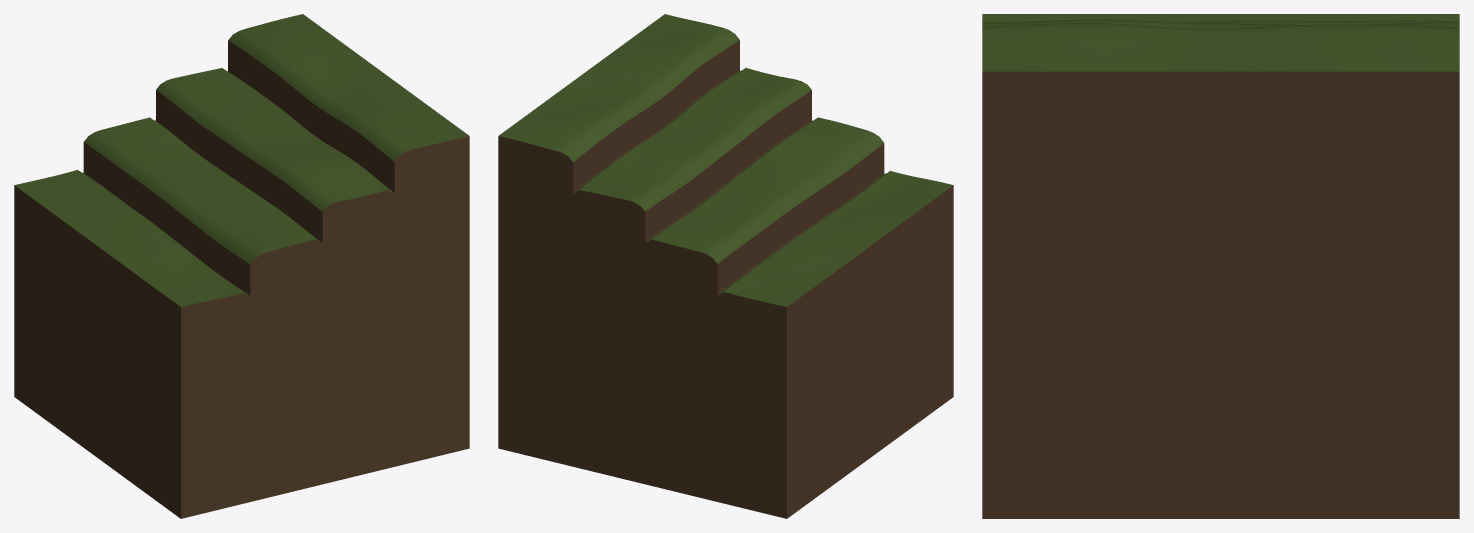
The picture shows the model from 3 angles, left to right: view 1: azimuth 30°, elevation 25°; view 2: azimuth 150°, elevation 25°; view 3: azimuth 270°, elevation 25°; orthographic projection. The views are drawn at different scales.
Visible parts, largest first — view 1: s1go; view 2: s1go; view 3: s1go.
Part boxes in pixels (box(x1,y1,x2,y2)): s1go: box(14, 14, 469, 518); s1go: box(498, 14, 953, 518); s1go: box(982, 14, 1459, 518).
Size of the model in its own units: 9 by 9.38 by 9.
